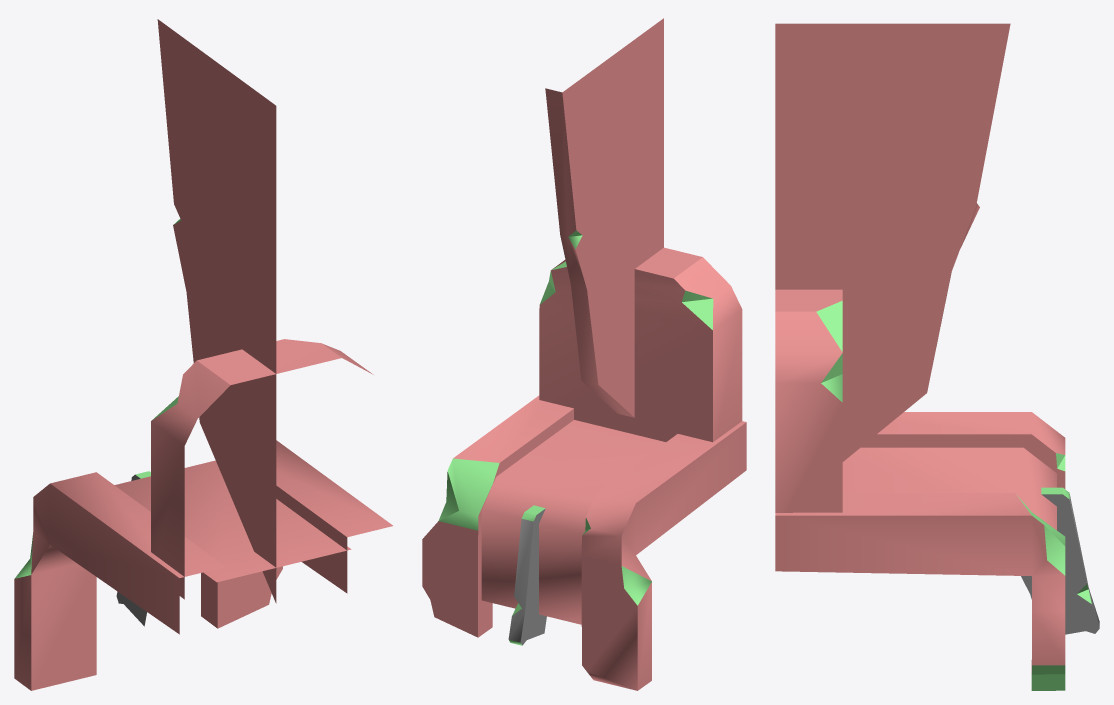
The model's file is SSQ_statue04_b02.gltf.
3 renders of one model, left to right at view 1: azimuth 30°, elevation 25°; view 2: azimuth 150°, elevation 25°; view 3: azimuth 270°, elevation 25°, orthographic. The views are drawn at different scales.
Parts seen in each view (by area): view 1: SSQ_statue04_b02; view 2: SSQ_statue04_b02; view 3: SSQ_statue04_b02.
Boxes of the visible parts, left/top/right/bottom form: SSQ_statue04_b02: left=14, top=19, right=392, bottom=690; SSQ_statue04_b02: left=422, top=18, right=746, bottom=690; SSQ_statue04_b02: left=775, top=23, right=1099, bottom=690.
Bounding box in the file's own units: 0.7643 × 1.89 × 0.8607.
